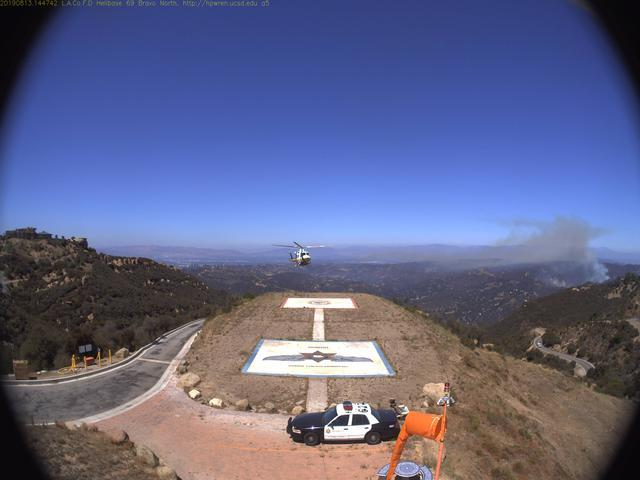smoke: (490, 214, 613, 290)
